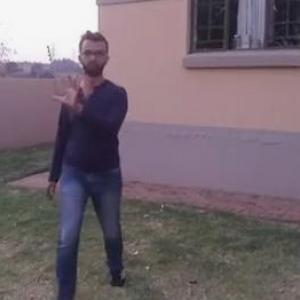follow_hand: (52, 71, 84, 108)
